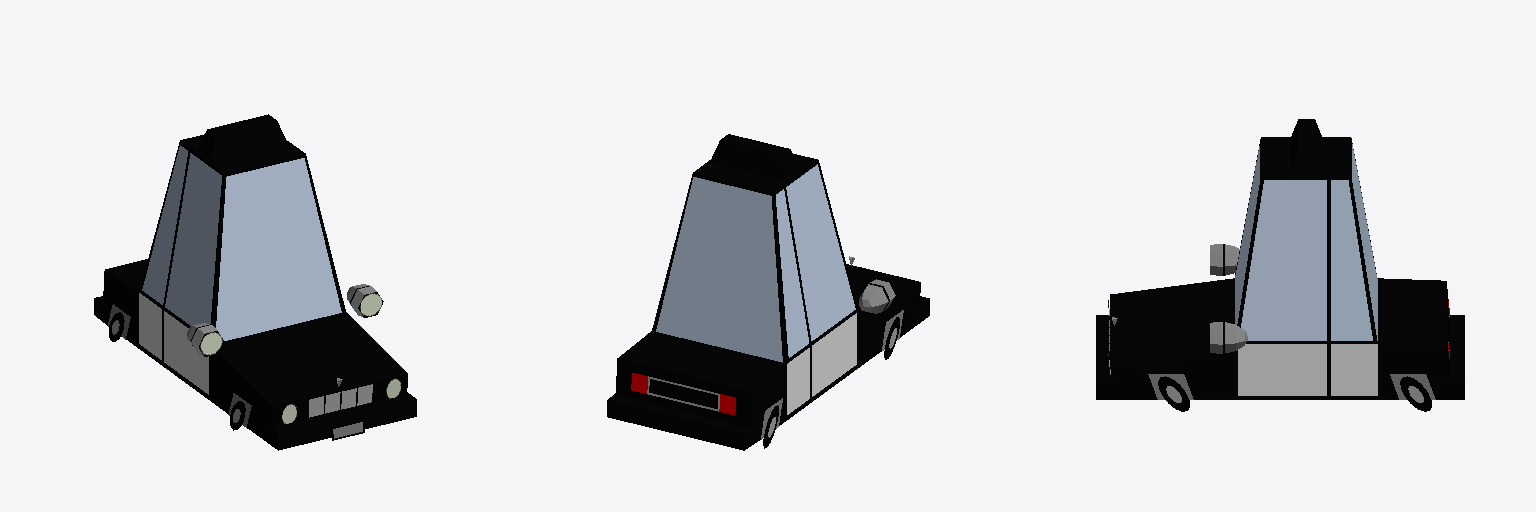
3 views of the same model, side by side, from view 1: azimuth 30°, elevation 25°; view 2: azimuth 150°, elevation 25°; view 3: azimuth 270°, elevation 25° (orthographic).
Visible parts, largest first — view 1: Mesh_0048; view 2: Mesh_0048; view 3: Mesh_0048.
Part boxes in pixels (x1,y1,x2,y2): Mesh_0048: (94, 114, 416, 450); Mesh_0048: (607, 134, 929, 450); Mesh_0048: (1096, 119, 1464, 411).
Bounding box in the file's own units: 20.97 × 25.91 × 35.84.
1 materials, 1 textured.